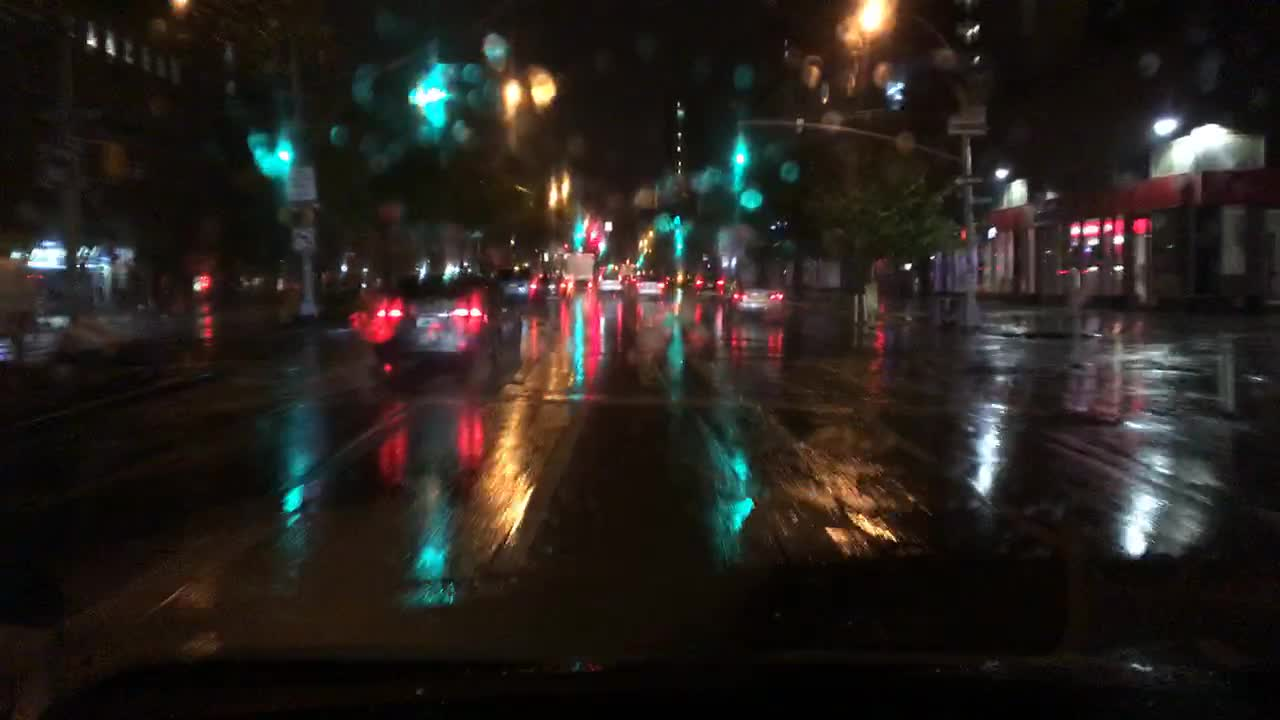car: (353, 269, 501, 372), (729, 280, 785, 316), (503, 269, 544, 298), (634, 274, 670, 299), (692, 269, 726, 292), (599, 277, 623, 293), (541, 280, 565, 296), (622, 273, 636, 283)
traffic light: (423, 71, 447, 115), (272, 136, 291, 170), (734, 145, 748, 172), (981, 222, 997, 239), (957, 224, 967, 241), (591, 227, 599, 241)
traffic sign: (288, 166, 315, 199), (947, 111, 987, 133), (292, 228, 315, 249), (896, 131, 915, 152), (954, 176, 984, 184)
truck: (563, 251, 594, 292)
